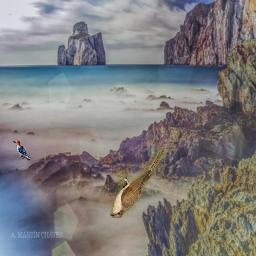Cuckoo: (110, 148, 164, 218)
Woodpecker: (12, 141, 30, 162)
